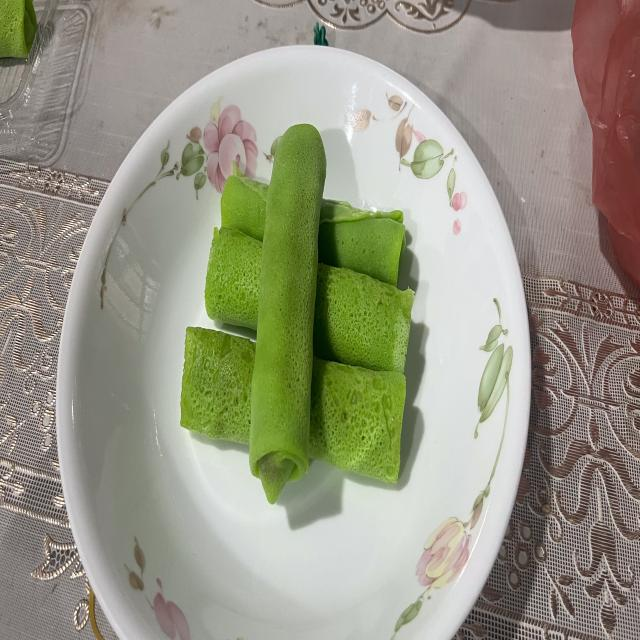Kuih-Ketayap: (249, 124, 326, 502), (309, 358, 406, 482), (314, 264, 415, 373), (180, 327, 255, 444), (319, 200, 405, 287), (205, 227, 262, 329), (221, 169, 269, 240)
